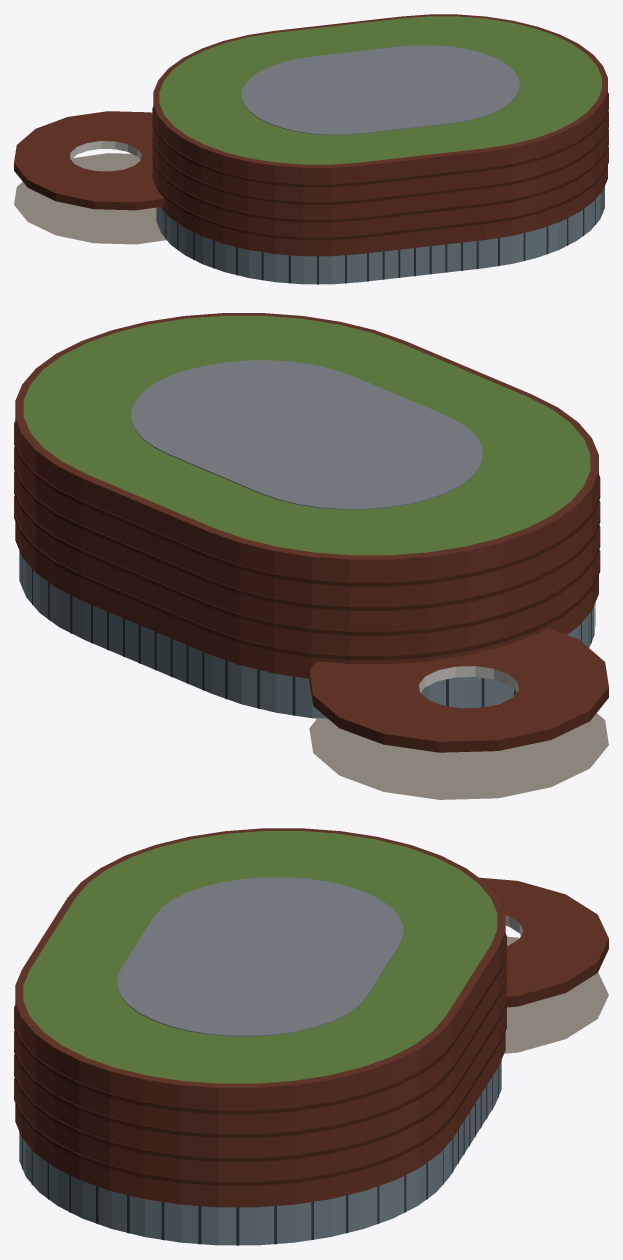
3 renders of one model, top to bottom at view 1: azimuth 30°, elevation 25°; view 2: azimuth 150°, elevation 25°; view 3: azimuth 270°, elevation 25°, orthographic. The views are drawn at different scales.
Parts seen in each view (by area): view 1: brooklyn-arena-lod0; view 2: brooklyn-arena-lod0; view 3: brooklyn-arena-lod0.
Boxes of the visible parts, x1=… form: brooklyn-arena-lod0: x1=14, y1=14, x2=608, y2=284; brooklyn-arena-lod0: x1=14, y1=313, x2=608, y2=799; brooklyn-arena-lod0: x1=14, y1=828, x2=608, y2=1245.
Bounding box in the file's own units: 244 × 58.2 × 195.
